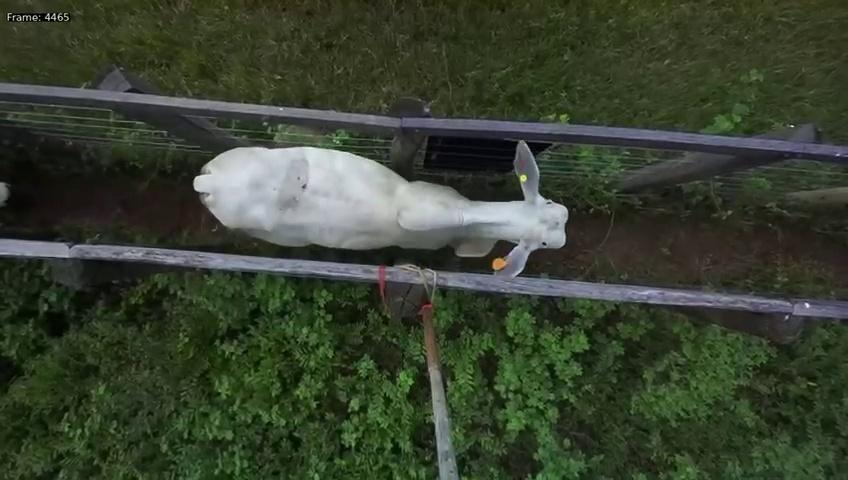cattle: (184, 135, 570, 277)
